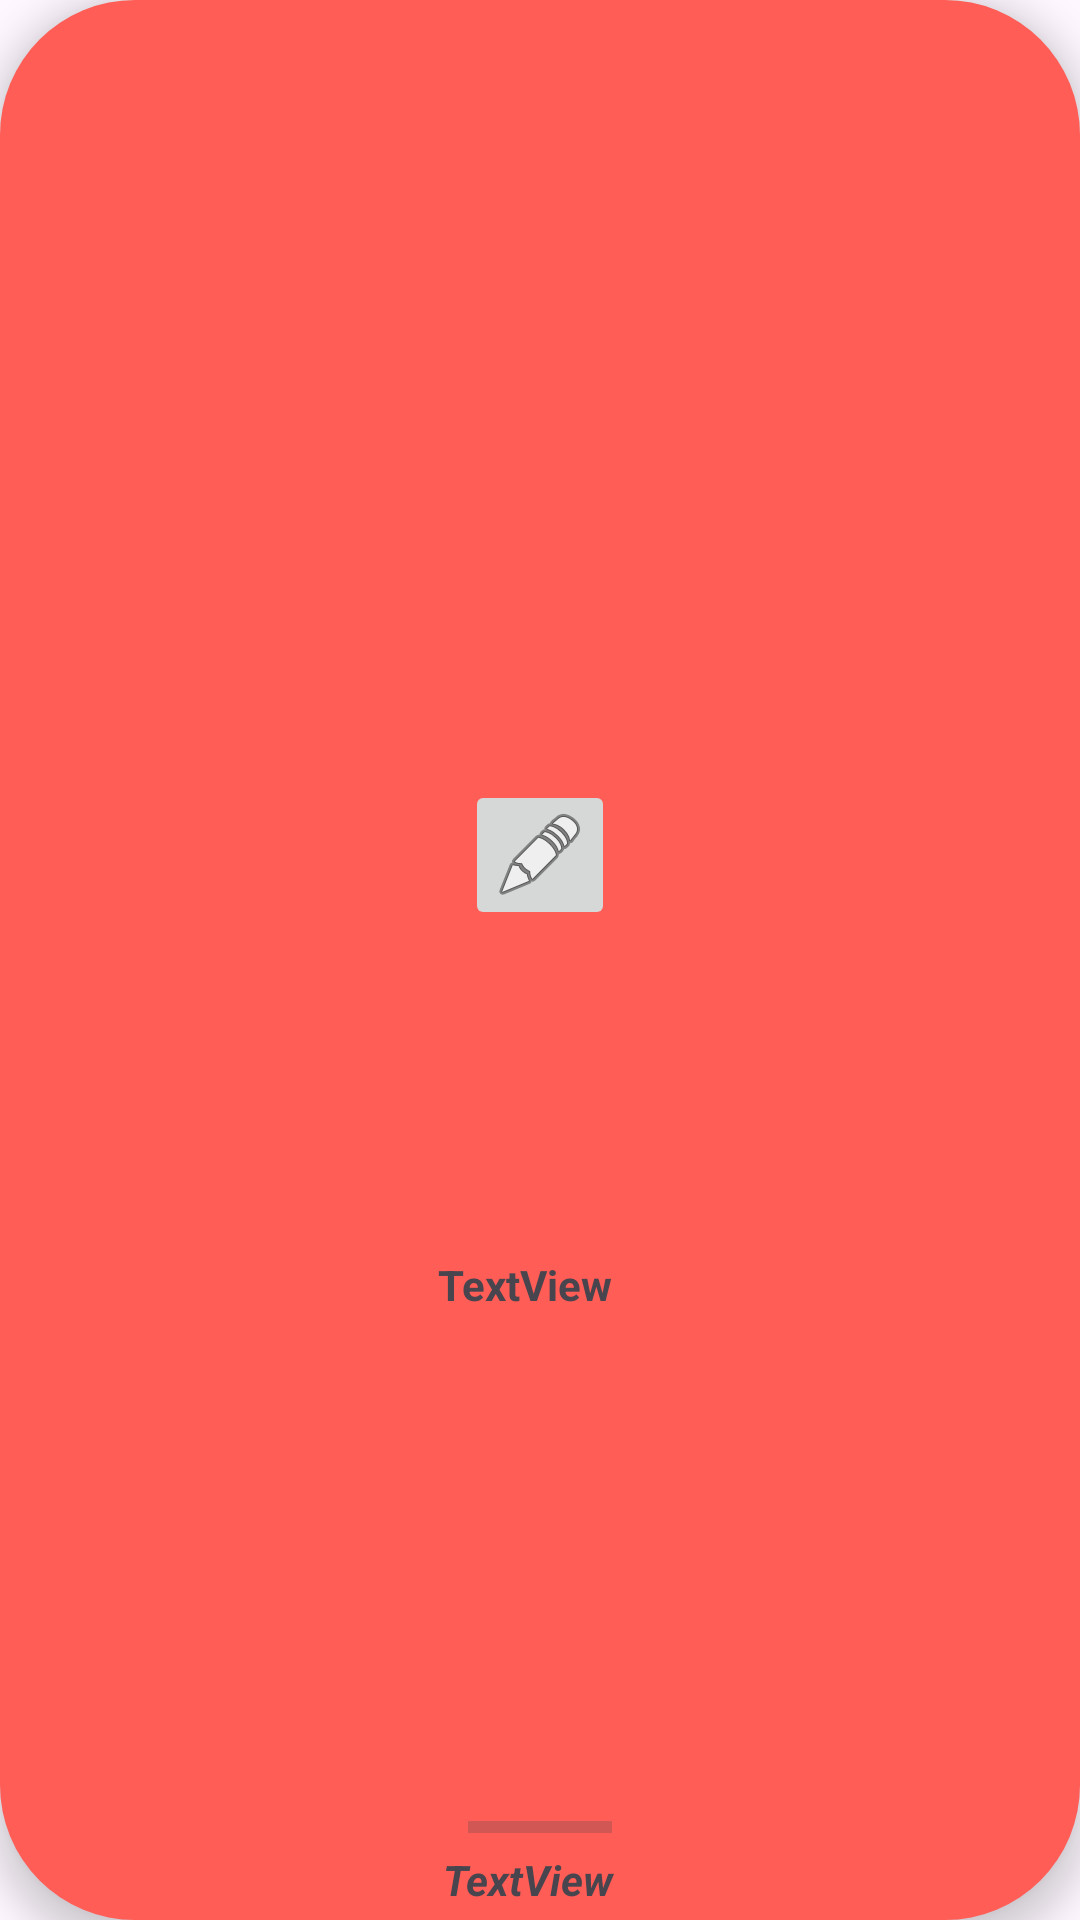

Named icons in this screenshot (1080x1920) and their bounding boxes, (x1, y1, x2, y2):
edit: (477, 798, 603, 912)
